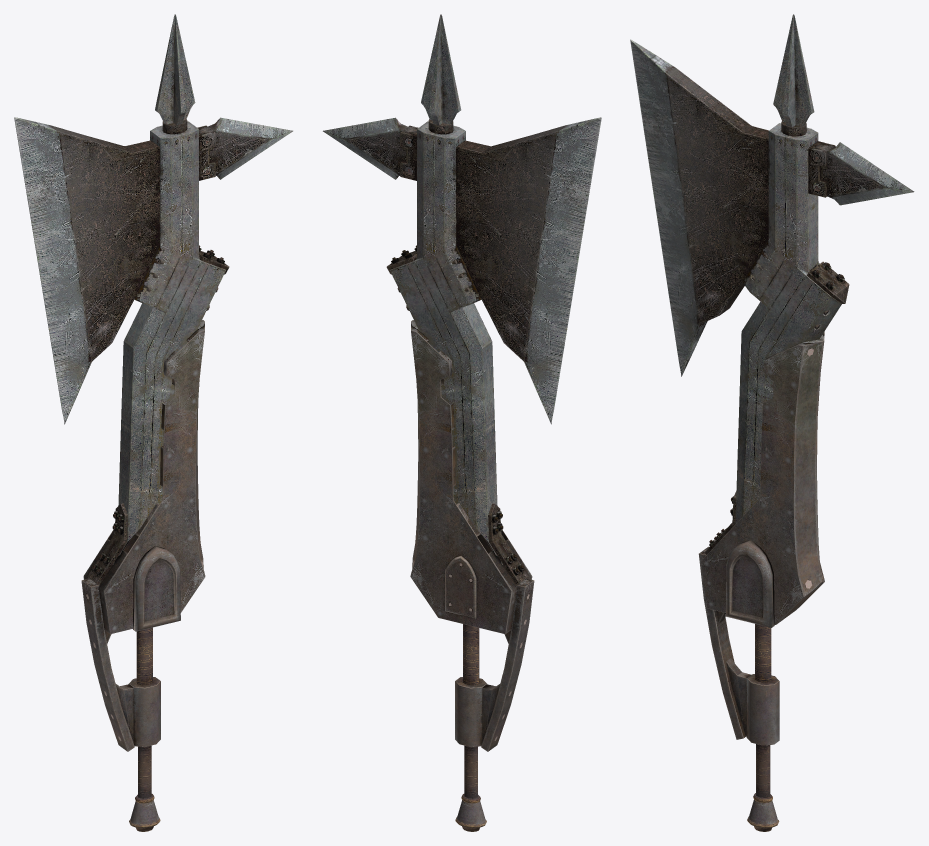
Rendered from bs_two003.obj.
The picture shows the model from 3 angles, left to right: view 1: azimuth 30°, elevation 25°; view 2: azimuth 150°, elevation 25°; view 3: azimuth 330°, elevation 25°; orthographic projection.
Parts seen in each view (by area): view 1: bs_two003_002_LOD_1, bs_two003_000_LOD_1, bs_two003_001_LOD_1; view 2: bs_two003_002_LOD_1, bs_two003_000_LOD_1, bs_two003_001_LOD_1; view 3: bs_two003_002_LOD_1, bs_two003_000_LOD_1, bs_two003_001_LOD_1.
Part boxes in pixels (x1,y1,x2,y2): bs_two003_002_LOD_1: (14,14,292,584); bs_two003_000_LOD_1: (81,320,205,831); bs_two003_001_LOD_1: (129,677,160,824); bs_two003_002_LOD_1: (323,14,601,584); bs_two003_000_LOD_1: (410,320,534,831); bs_two003_001_LOD_1: (455,677,486,824); bs_two003_002_LOD_1: (630,14,914,554); bs_two003_000_LOD_1: (698,331,824,831); bs_two003_001_LOD_1: (746,674,779,824).
Size of the model in its own units: 108 by 298 by 18.36.
